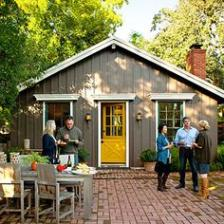yellow: (101, 105, 127, 163)
